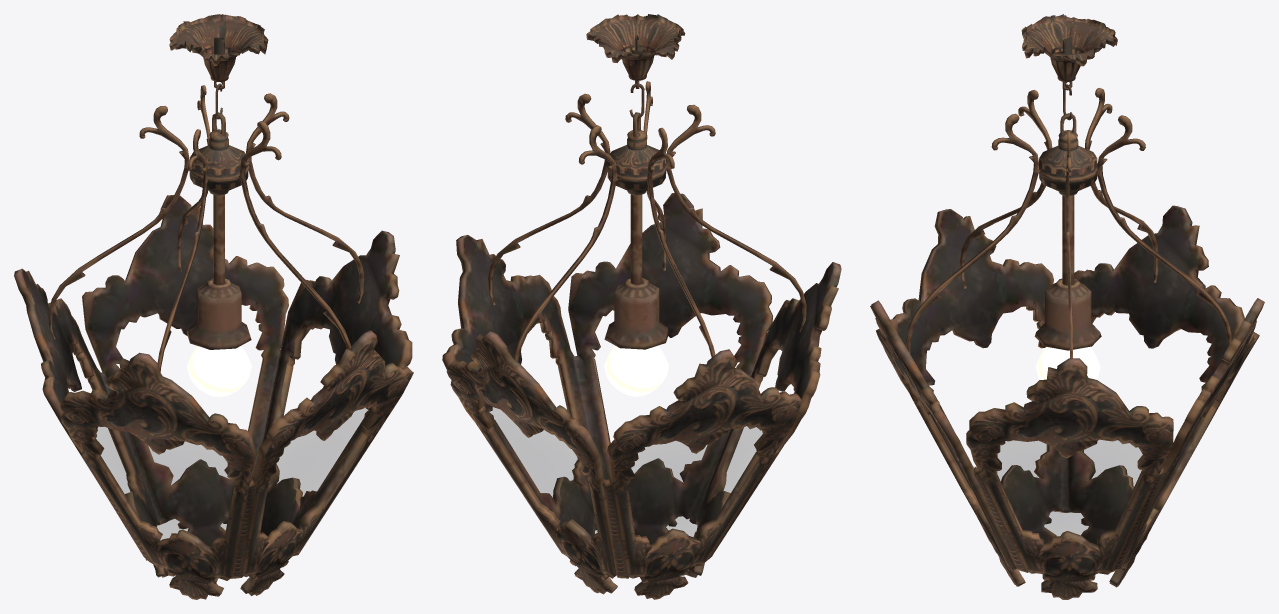
File: m_lantern_chandelier_01.glb
3 renders of one model, left to right at view 1: azimuth 30°, elevation 25°; view 2: azimuth 150°, elevation 25°; view 3: azimuth 270°, elevation 25°, orthographic.
Parts seen in each view (by area): view 1: lantern_chandelier_01; view 2: lantern_chandelier_01; view 3: lantern_chandelier_01.
Part boxes in pixels (x1=…): lantern_chandelier_01: x1=14, y1=14, x2=413, y2=599; lantern_chandelier_01: x1=442, y1=14, x2=841, y2=599; lantern_chandelier_01: x1=870, y1=14, x2=1264, y2=599.
Size of the model in its own units: 0.5792 by 0.8776 by 0.5746.
Materials: 3 (2 with a texture image).
